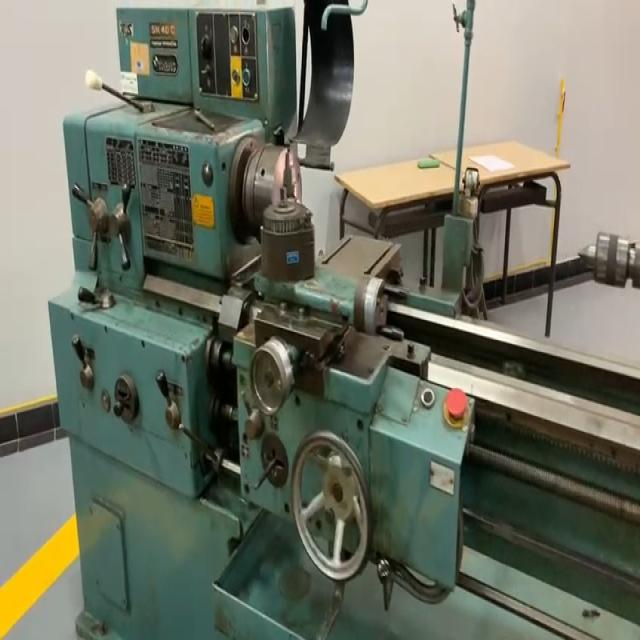tour parallele: (48, 0, 640, 640)
